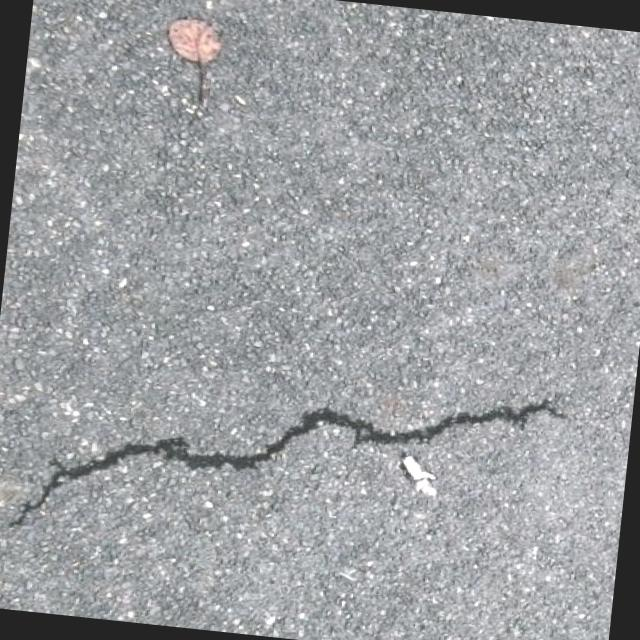crack: (9, 344, 568, 584)
